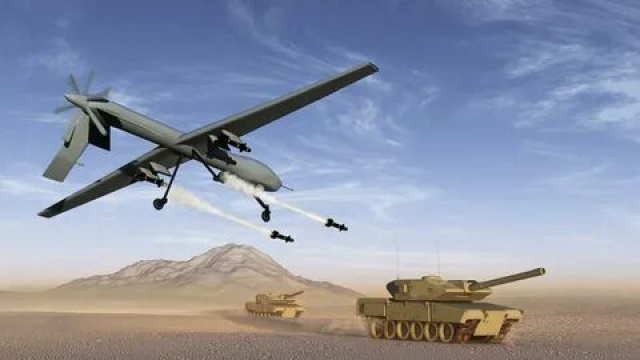military drone: (37, 60, 379, 219)
